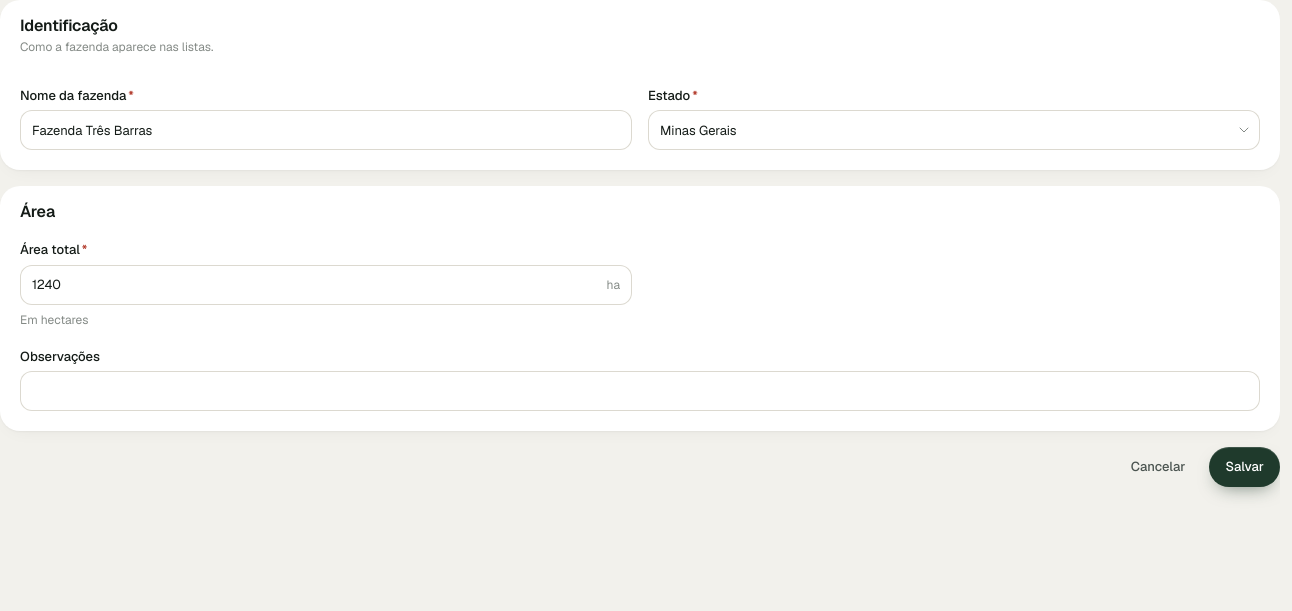
Test: EntityForm › erro do servidor aparece no topo e marca os campos que ele apontar, focando o primeiro
Click the button "Salvar": (1245, 467) [1210,447,1280,487]
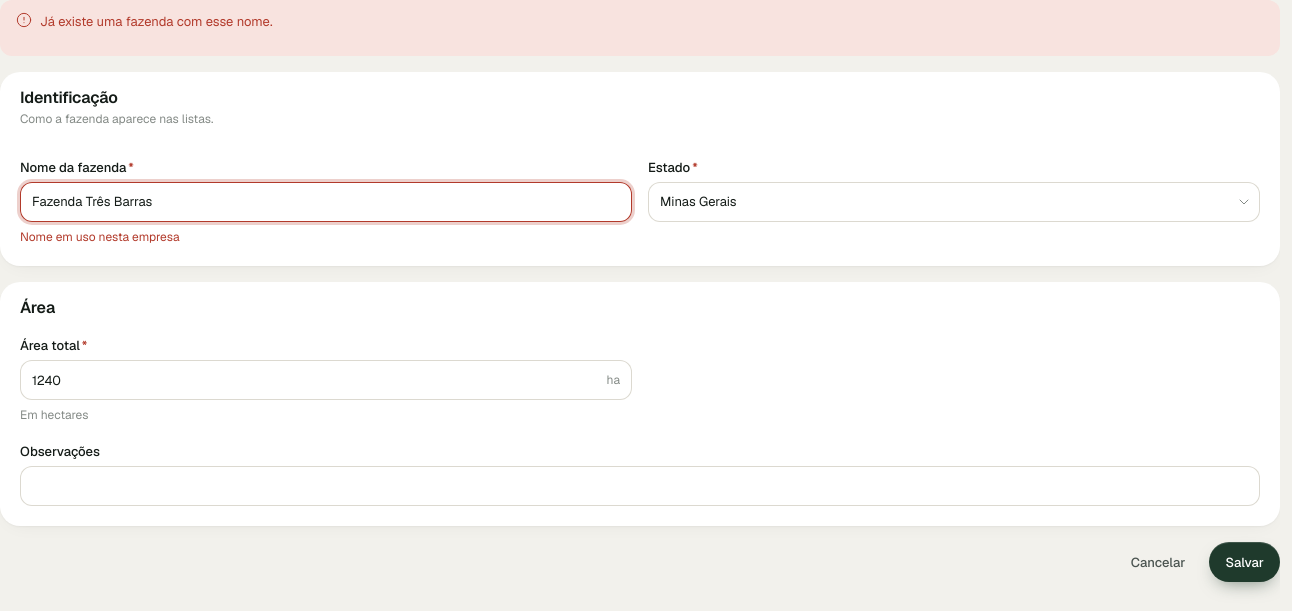
Expected: the button "Salvar" is enabled, [1210,542,1280,582]
Expected: the message reads "Já existe uma fazenda com esse nome.", [40,13,272,30]
